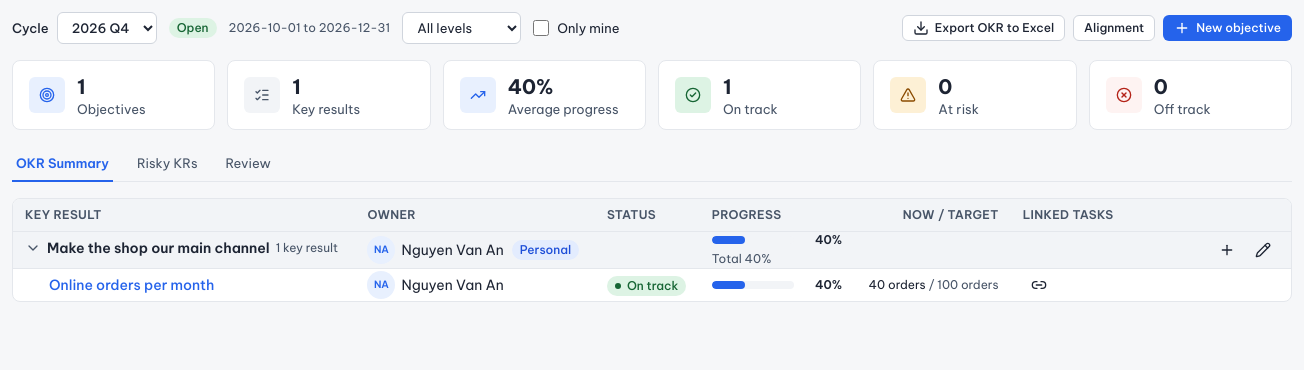
Test case: OkrScreen › starts on the open cycle and can switch to another
Expected: the button "Make the shop our main channel 1 key result" is shown, x1=25 y1=238 x2=338 y2=258
Select "2026 Q3" in the dropdown labelled "Cycle" at (107, 28), box x1=57 y1=12 x2=157 y2=44
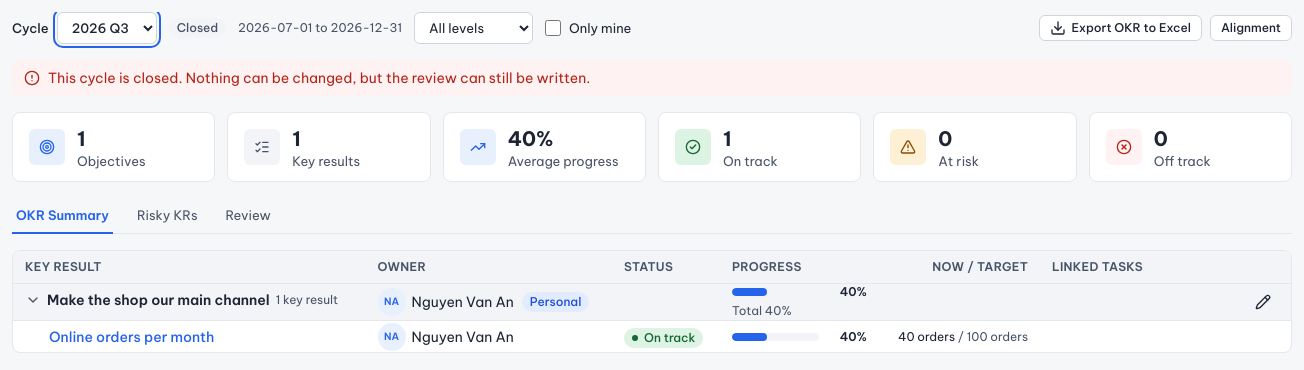
Now the text "This cycle is closed" is shown, box x1=48 y1=69 x2=590 y2=87
Now the button "New objective" is gone
